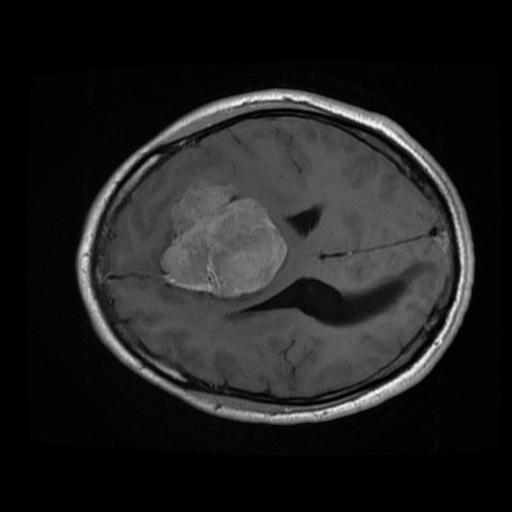meningioma: (159, 184, 287, 297)
